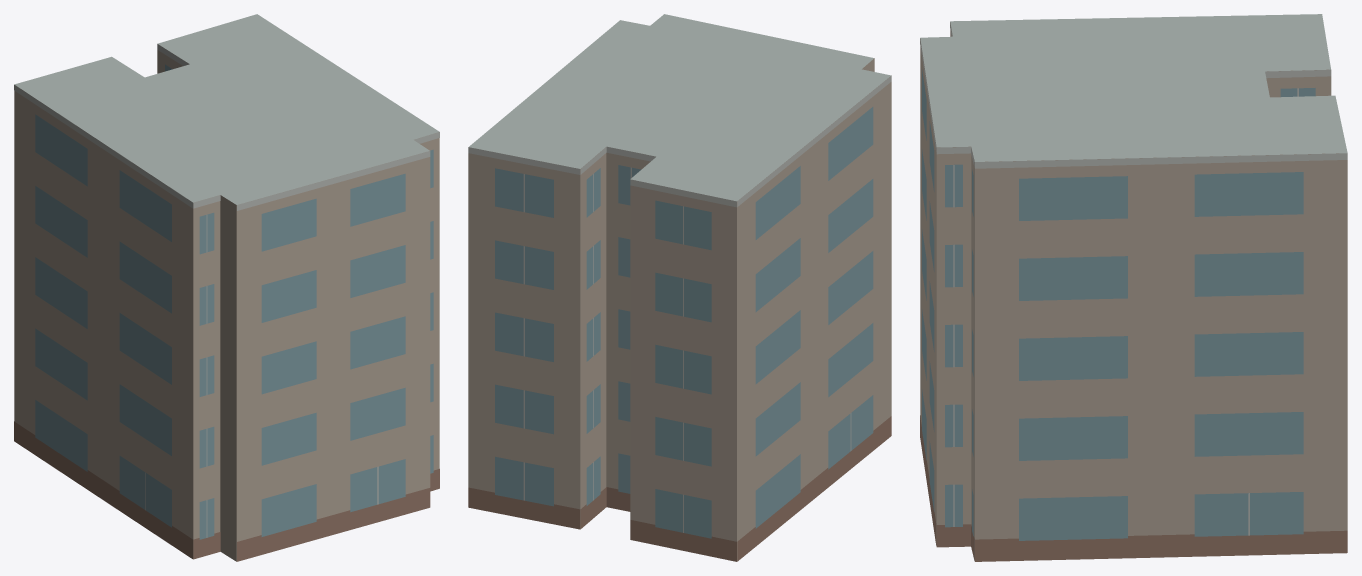
The model's file is survey-upis-32775468.glb.
3 views of the same model, side by side, from view 1: azimuth 30°, elevation 25°; view 2: azimuth 150°, elevation 25°; view 3: azimuth 270°, elevation 25° (orthographic). The views are drawn at different scales.
Visible parts, largest first — view 1: survey-upis-32775468.tmp; view 2: survey-upis-32775468.tmp; view 3: survey-upis-32775468.tmp.
Part boxes in pixels (x1,y1,x2,y2): survey-upis-32775468.tmp: (14,14,439,561); survey-upis-32775468.tmp: (468,14,891,561); survey-upis-32775468.tmp: (920,14,1347,561).
Bounding box in the file's own units: 11.52 × 14.5 × 14.06.
